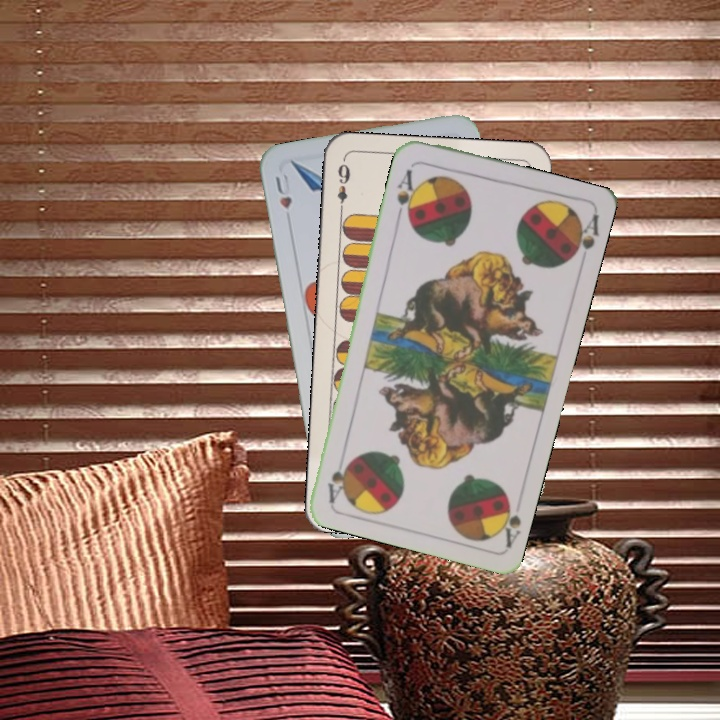E9: (333, 157, 353, 216)
HU: (271, 170, 294, 212)
SA: (491, 489, 524, 550), (393, 165, 421, 222)
